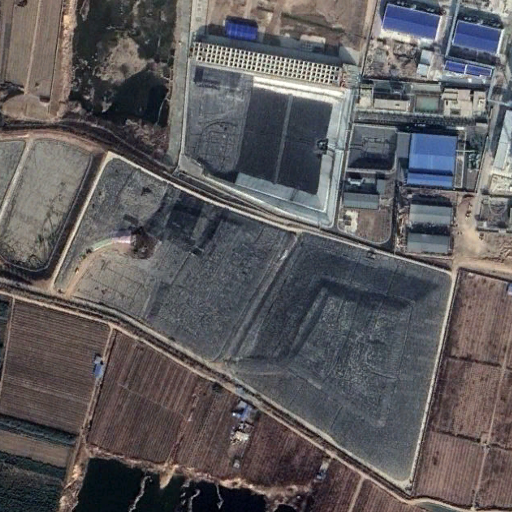lf: (53, 151, 460, 493), (186, 58, 353, 217)
